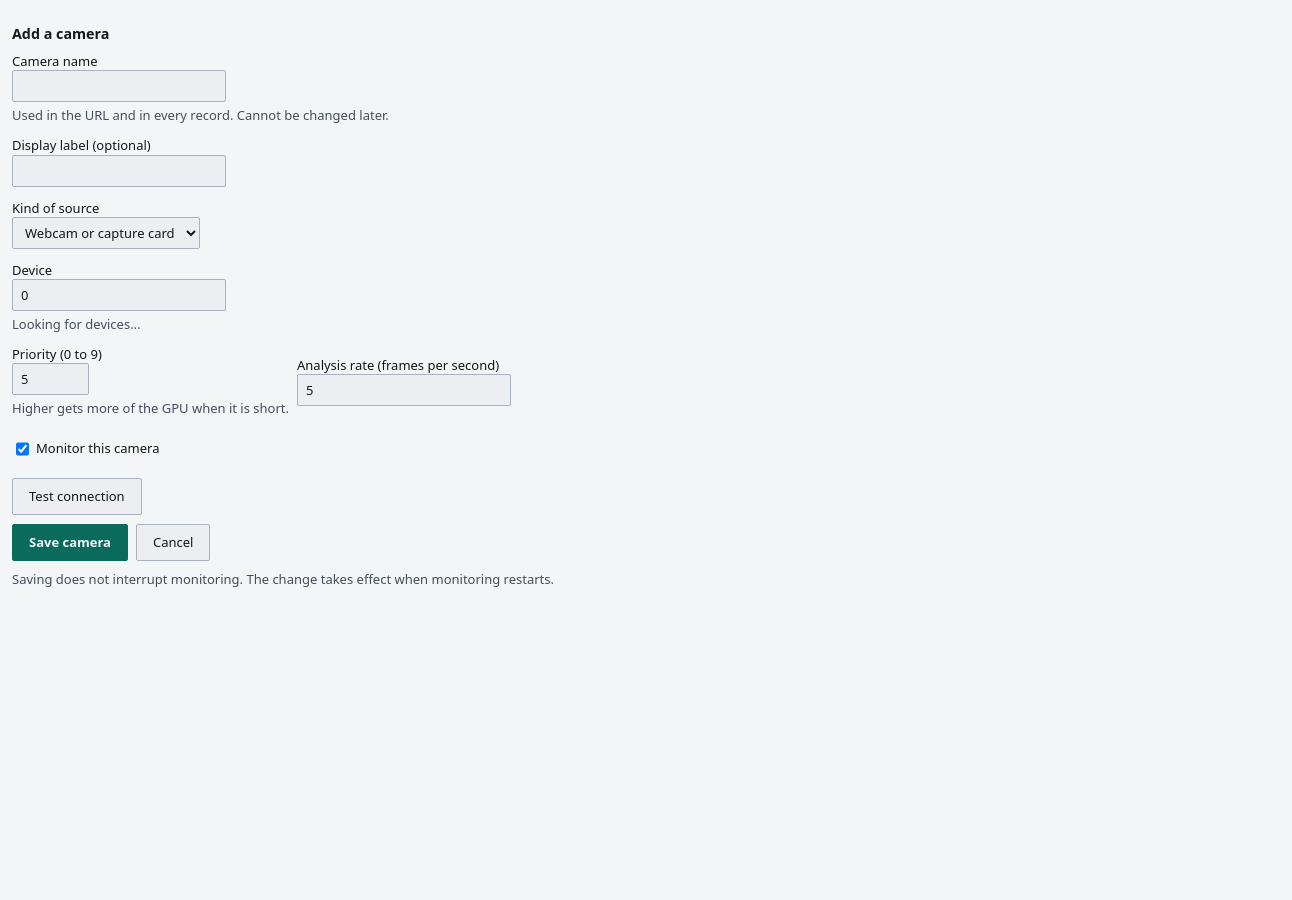
adding a camera › keeps the entries and lists the engine's reasons when it refuses
The image size is (1292, 900).
In the field labelled "Camera name": [119, 86] box [12,70,226,102], type "lobby"
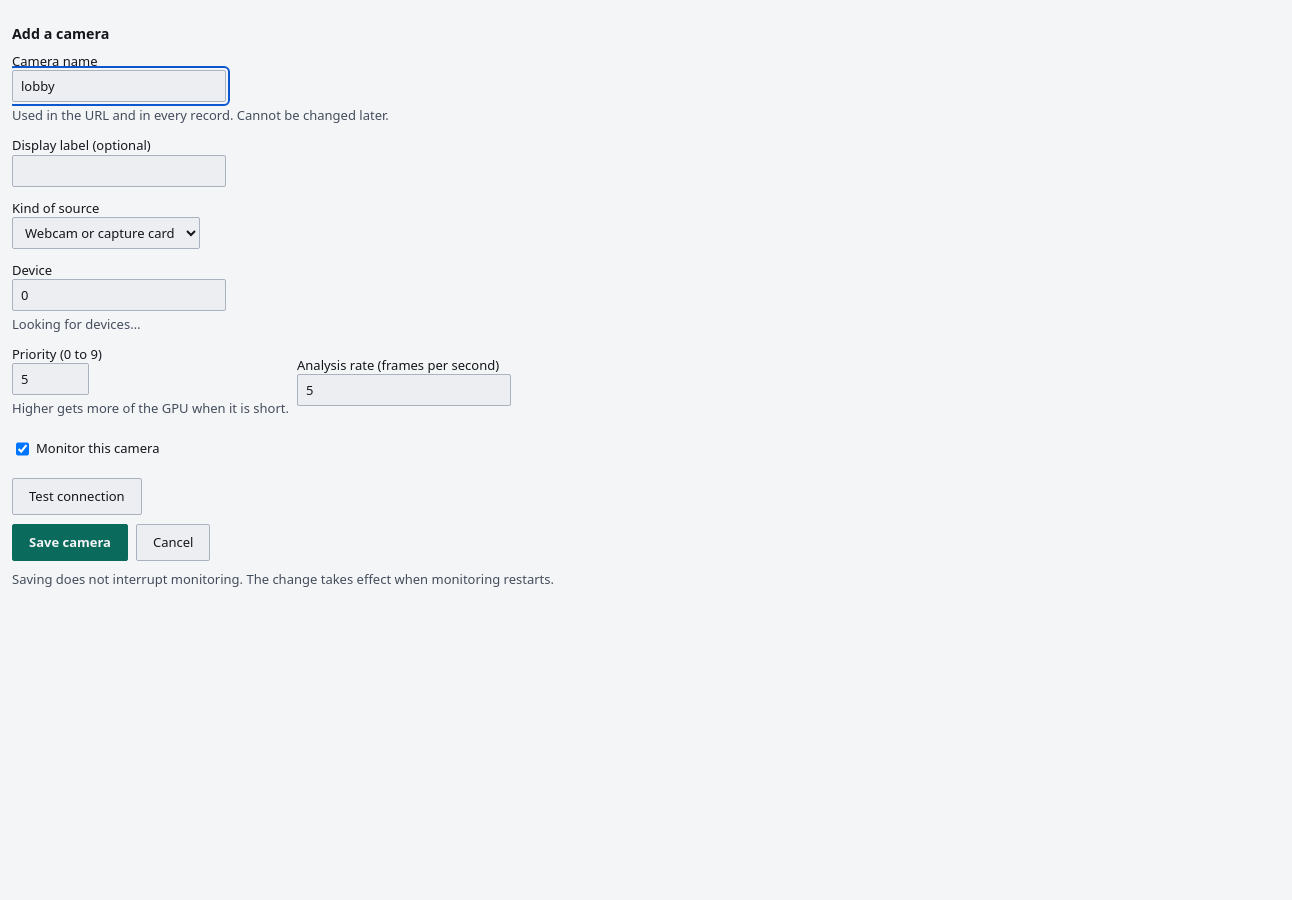
Select "Video file (replay)" in the dropdown labelled "Kind of source": [106, 233] box [12,217,200,249]
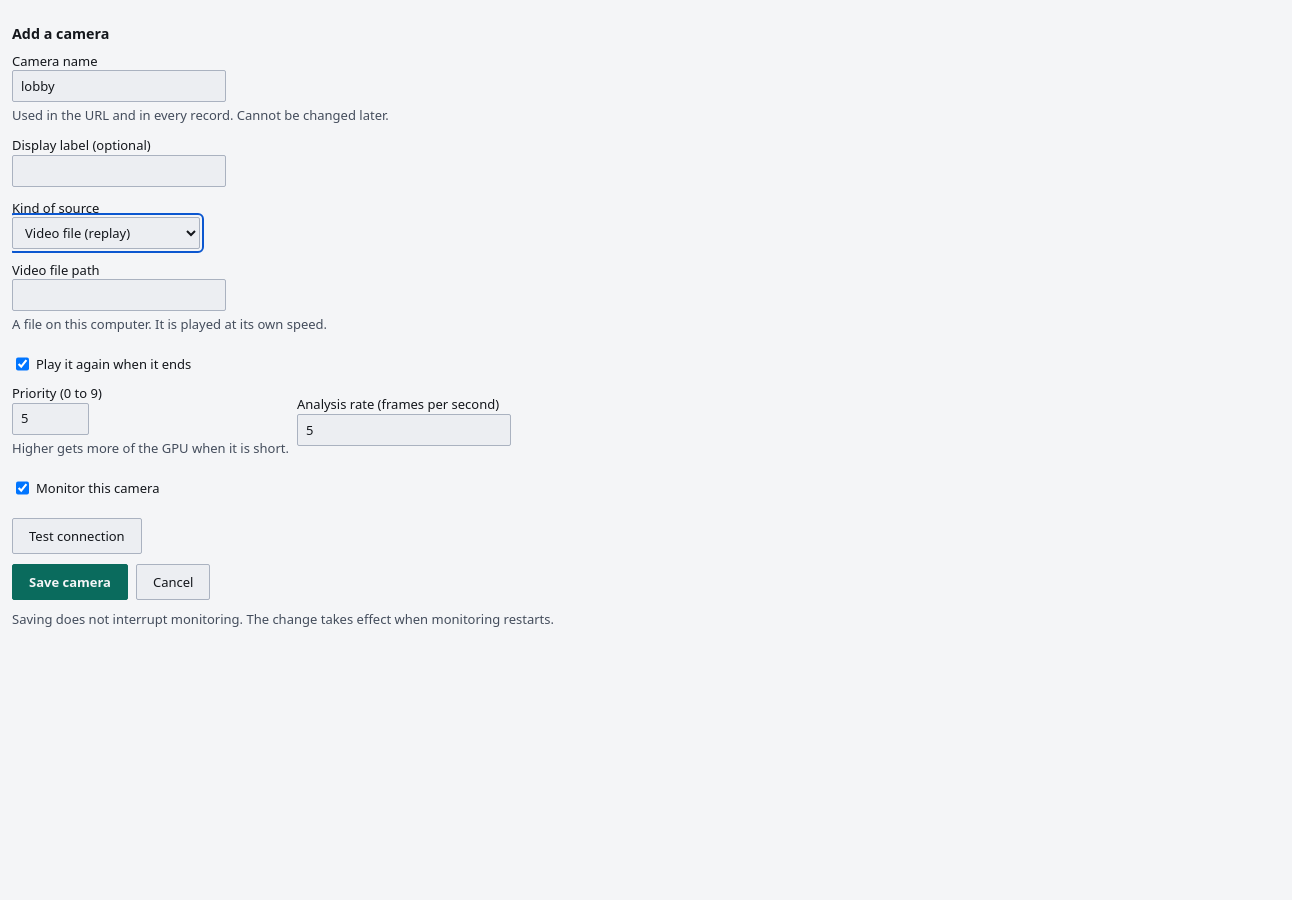
In the field labelled "Video file path": [119, 295] box [12,279,226,311], type "clips/nope.mp4"
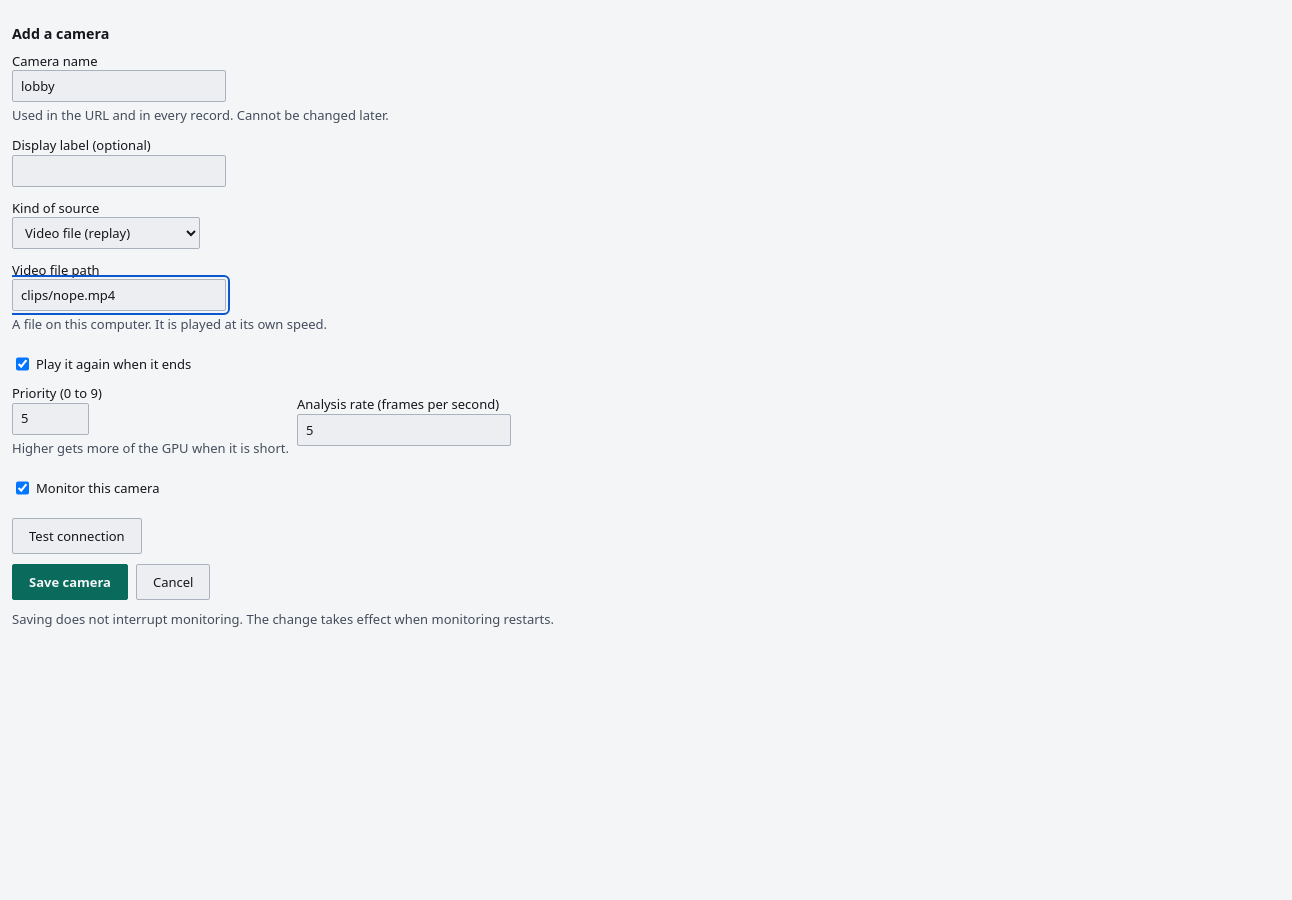
Click the button "Save camera": [70, 582] box [12,564,128,600]
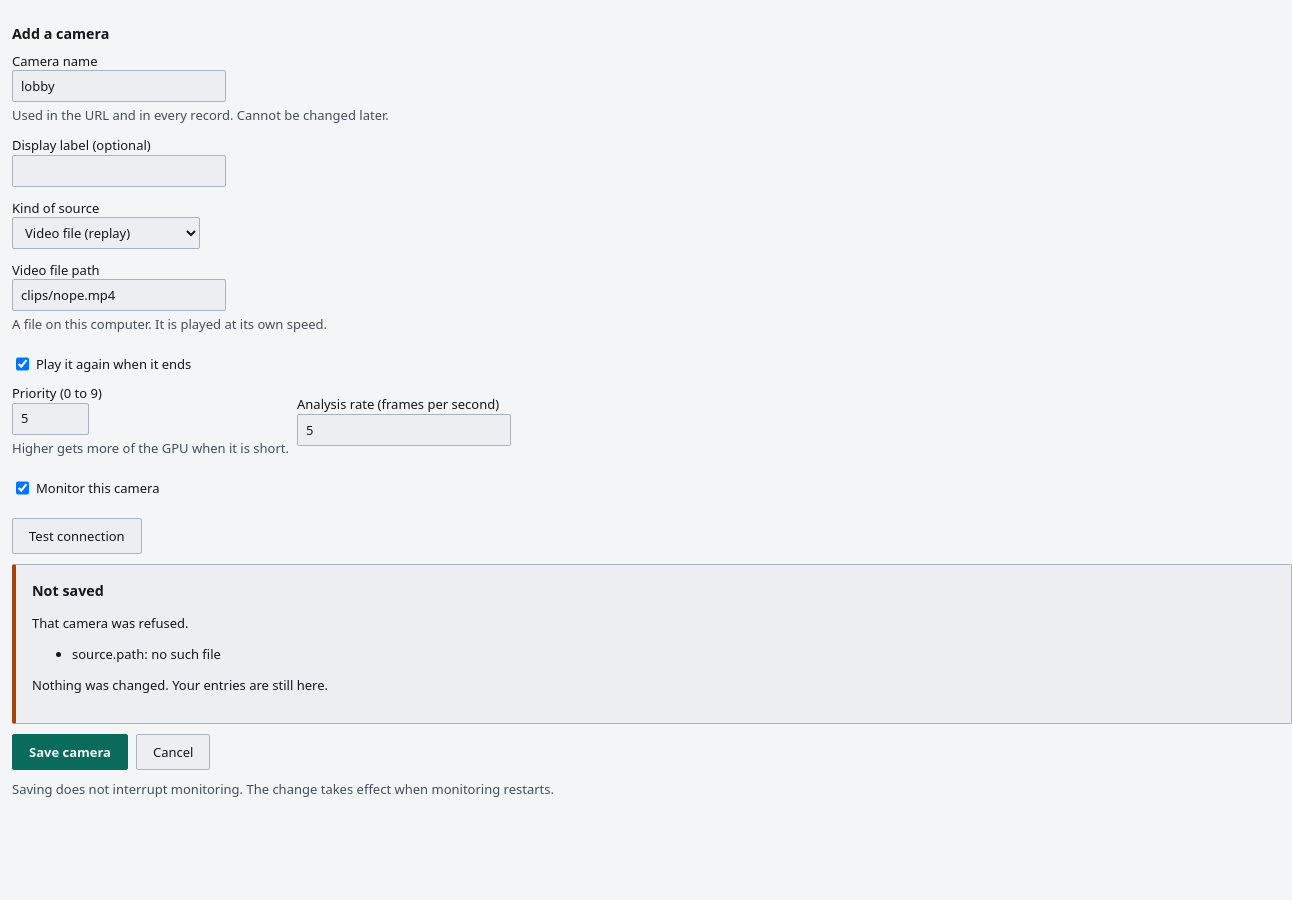
Expected: the list item "source.path: no such file" is shown, [72,645,221,663]
Expected: the text "Nothing was changed. Your entries are still here." is shown, [32,676,328,694]
